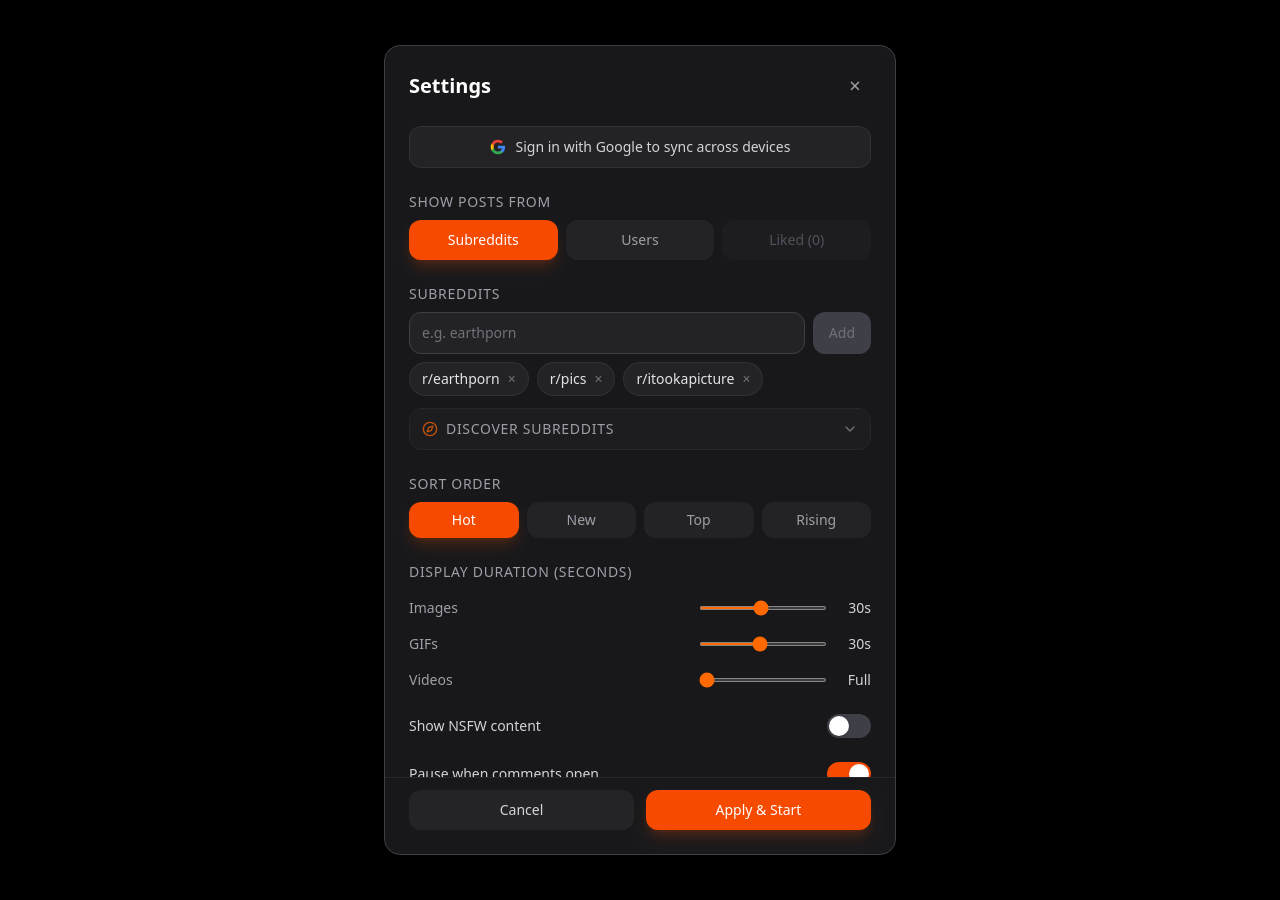
Scenario: SettingsPanel › switches to users mode
Click the button "users" at [640, 240], box top-left (566, 220), bottom-right (714, 260)
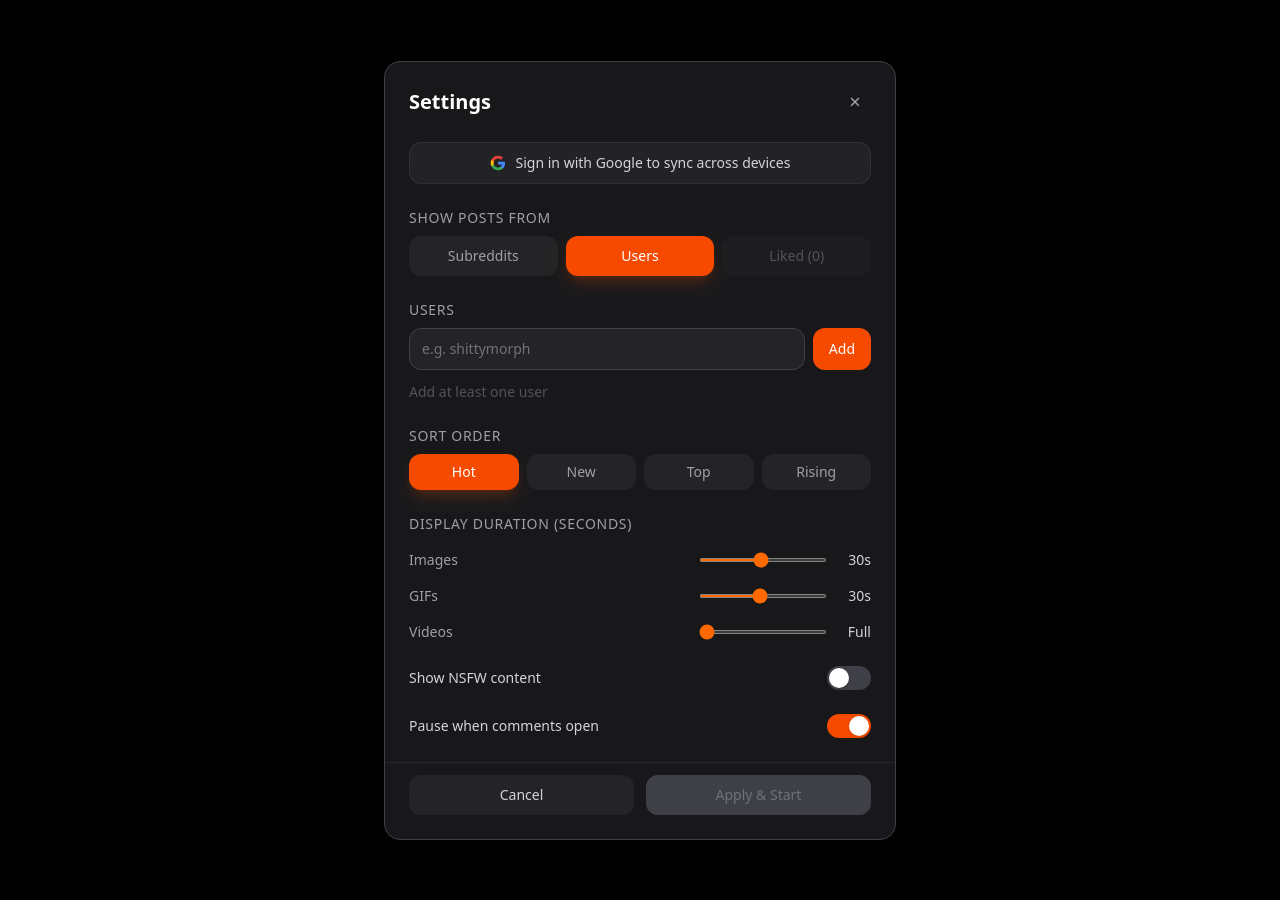
Expected: the text "Add at least one user" is shown, top-left (409, 382), bottom-right (548, 402)
